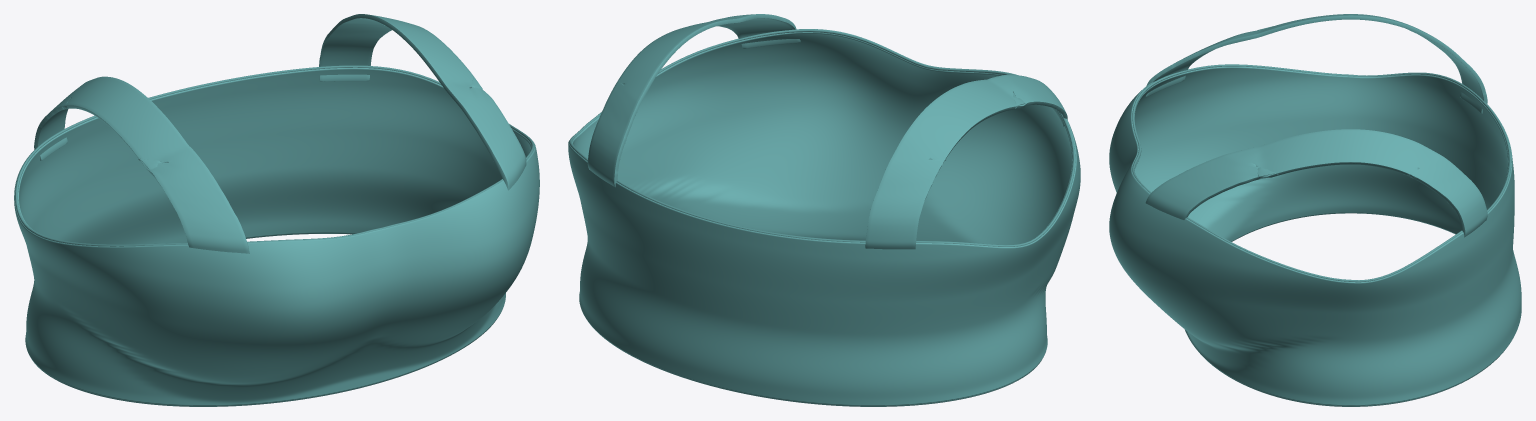
File: Feminine-tank-top.glb
The picture shows the model from 3 angles, left to right: view 1: azimuth 30°, elevation 25°; view 2: azimuth 150°, elevation 25°; view 3: azimuth 270°, elevation 25°; orthographic projection. The views are drawn at different scales.
Parts seen in each view (by area): view 1: Clothing / tank body, Clothing / tank strap -1, Clothing / tank strap 1, tank body / bound edge.001 export, tank body / bound edge export; view 2: Clothing / tank body, Clothing / tank strap -1, Clothing / tank strap 1, tank body / bound edge.001 export, tank body / bound edge export; view 3: Clothing / tank body, Clothing / tank strap 1, Clothing / tank strap -1, tank body / bound edge.001 export, tank body / bound edge export.
Boxes of the visible parts, <box> form: Clothing / tank body: <box>14,67,539,405</box>; Clothing / tank strap -1: <box>34,76,249,253</box>; Clothing / tank strap 1: <box>319,14,526,190</box>; tank body / bound edge.001 export: <box>15,65,534,246</box>; tank body / bound edge export: <box>32,233,494,406</box>; Clothing / tank body: <box>568,29,1080,405</box>; Clothing / tank strap -1: <box>865,74,1067,249</box>; Clothing / tank strap 1: <box>587,14,800,187</box>; tank body / bound edge.001 export: <box>569,29,1075,246</box>; tank body / bound edge export: <box>592,327,1041,406</box>; Clothing / tank body: <box>1109,66,1521,405</box>; Clothing / tank strap 1: <box>1145,129,1487,237</box>; Clothing / tank strap -1: <box>1145,14,1487,113</box>; tank body / bound edge.001 export: <box>1132,64,1511,282</box>; tank body / bound edge export: <box>1200,213,1503,406</box>.
Bounding box in the file's own units: 0.6437 × 0.3446 × 0.5425.
